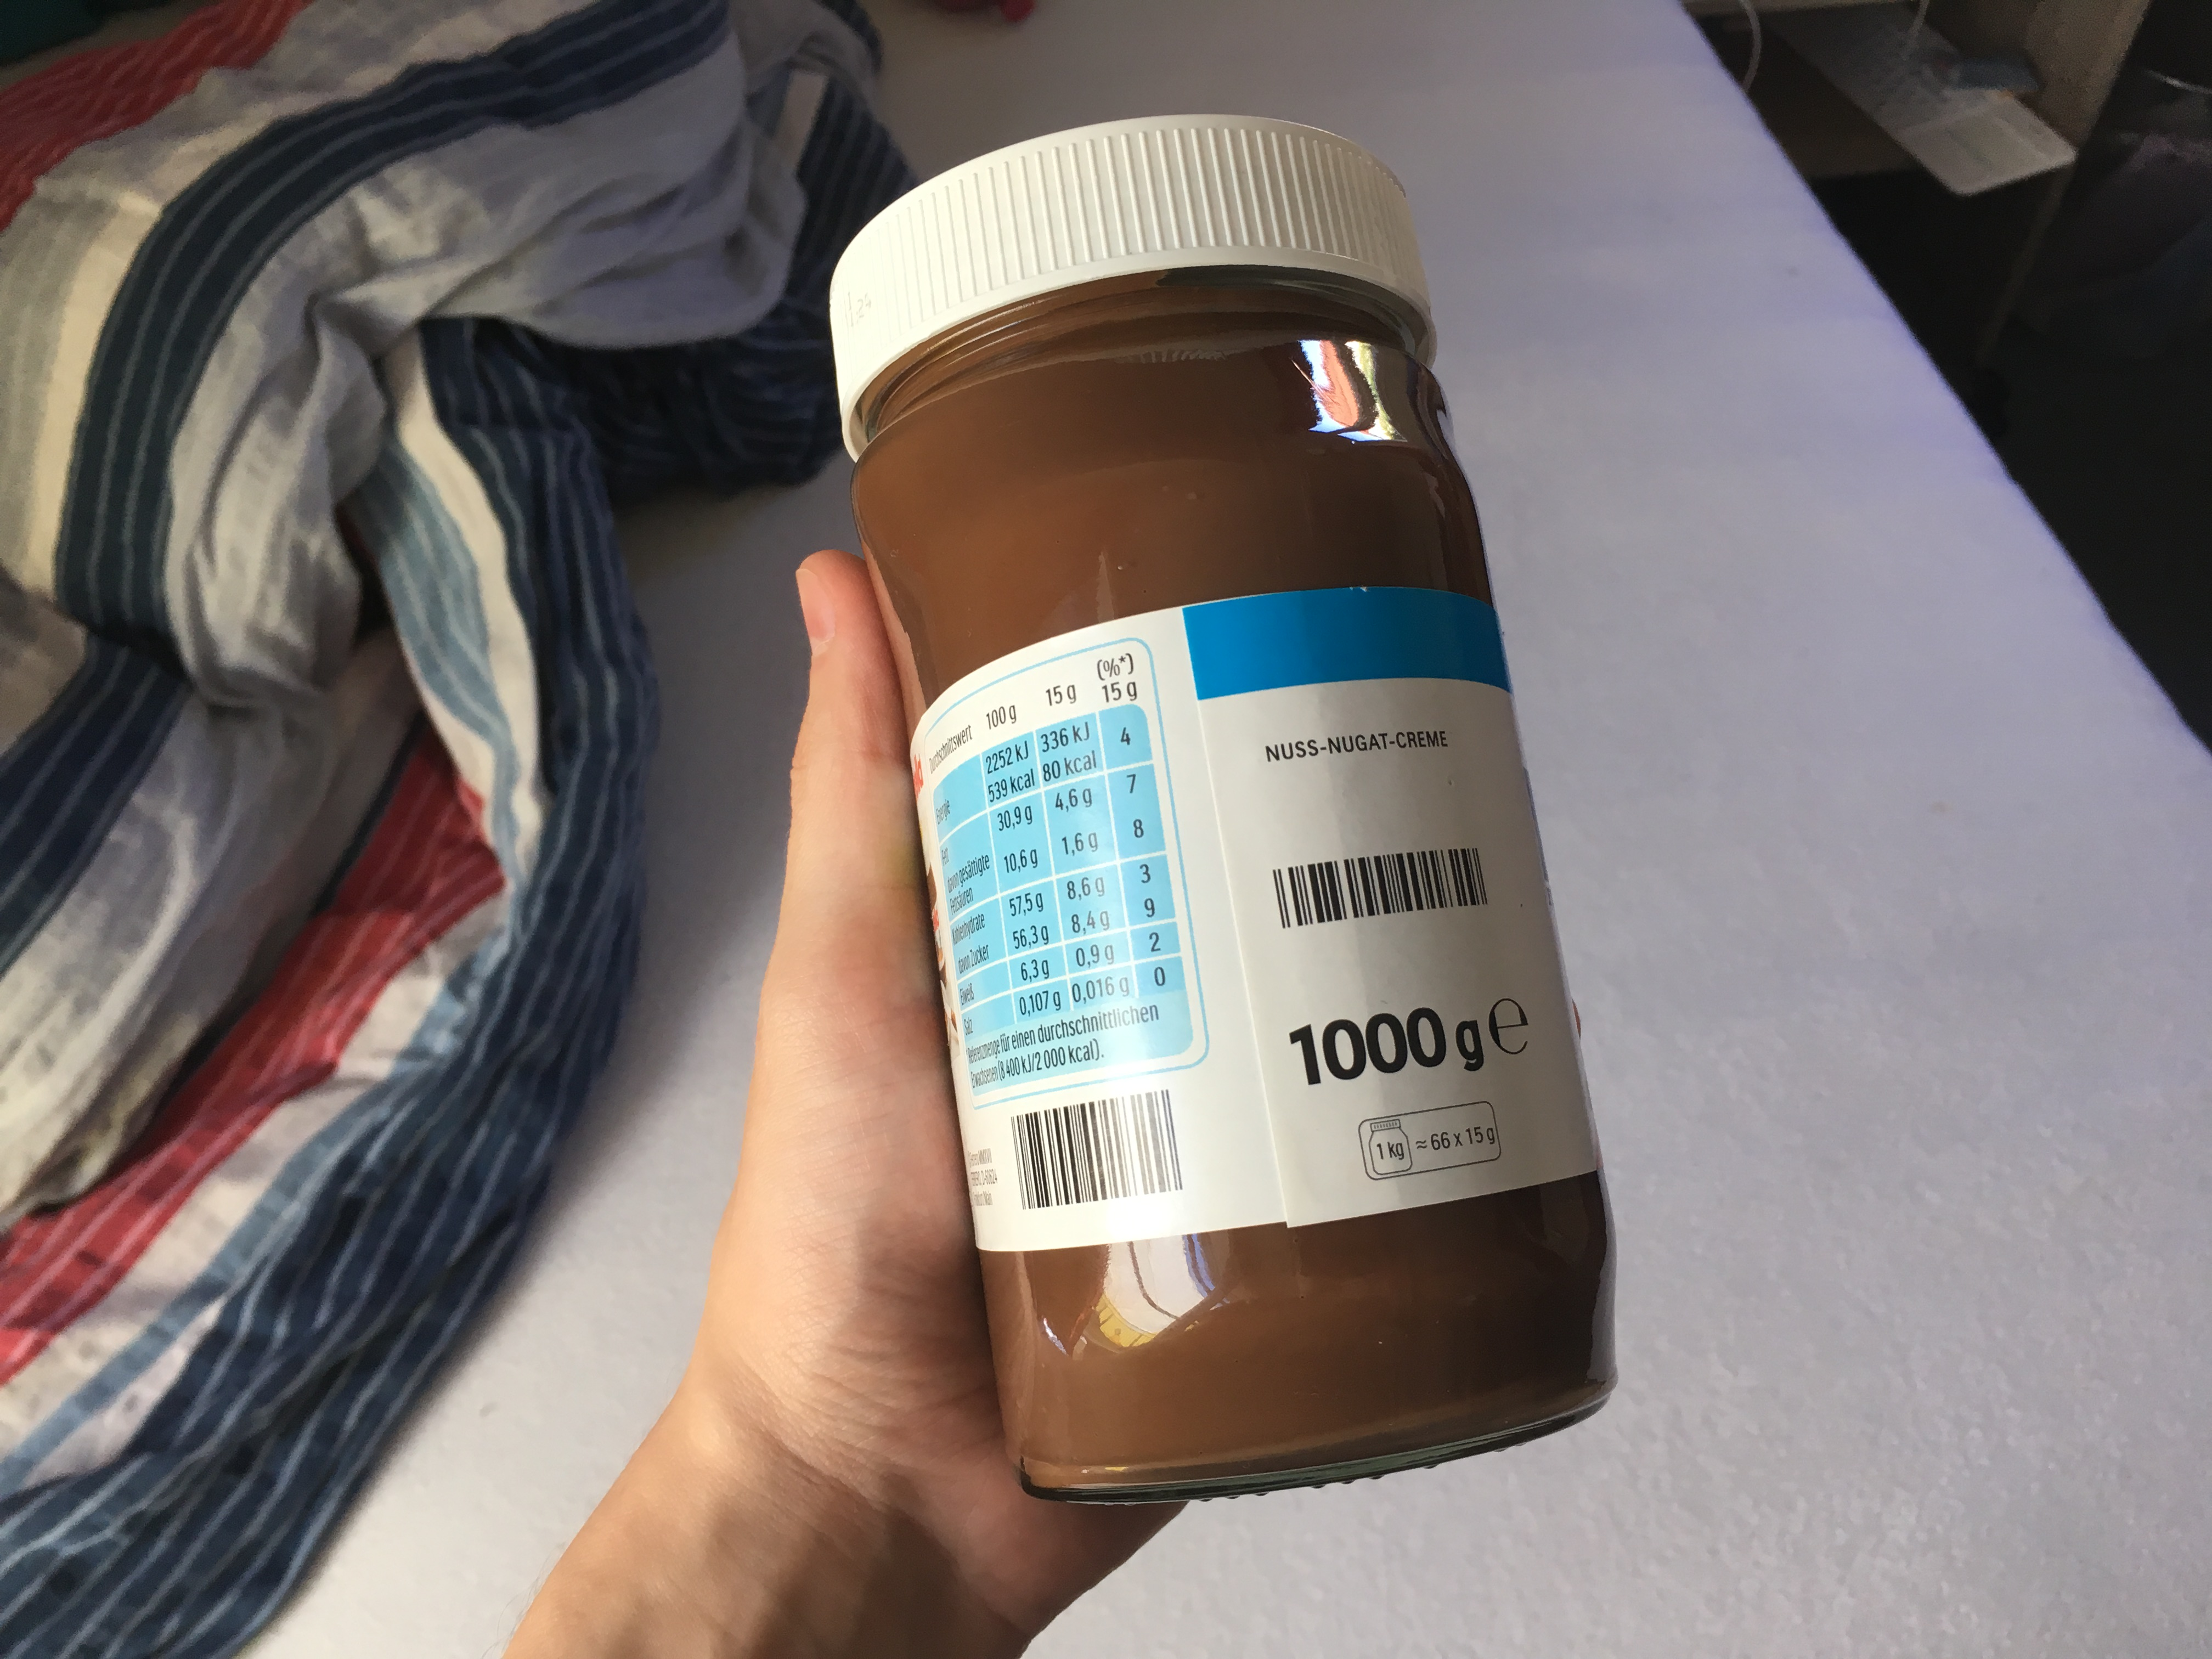nutella: (826, 115, 1627, 1497)
